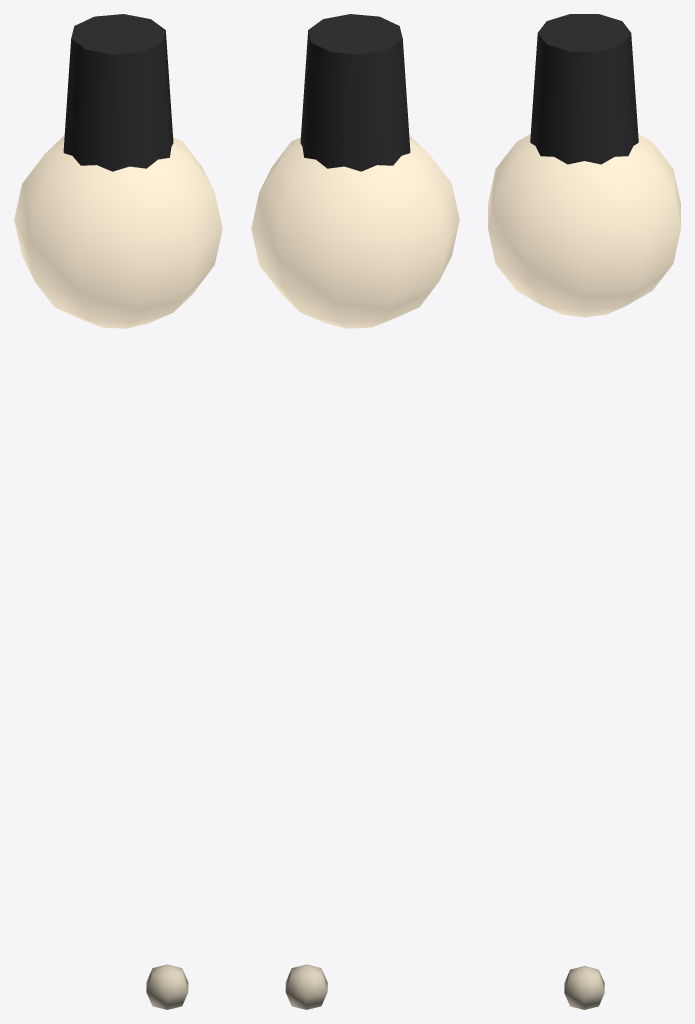
File: lamp-laundry.glb
The picture shows the model from 3 angles, left to right: view 1: azimuth 30°, elevation 25°; view 2: azimuth 150°, elevation 25°; view 3: azimuth 270°, elevation 25°; orthographic projection. The views are drawn at different scales.
Visible parts, largest first — view 1: lamp-laundry-swing; view 2: lamp-laundry-swing; view 3: lamp-laundry-swing.
Part boxes in pixels (box(x1,y1,x2,y2)): lamp-laundry-swing: box(14, 14, 222, 1009); lamp-laundry-swing: box(251, 14, 459, 1009); lamp-laundry-swing: box(488, 14, 680, 1009).
Bounding box in the file's own units: 0.26 × 1.35 × 0.2473.
